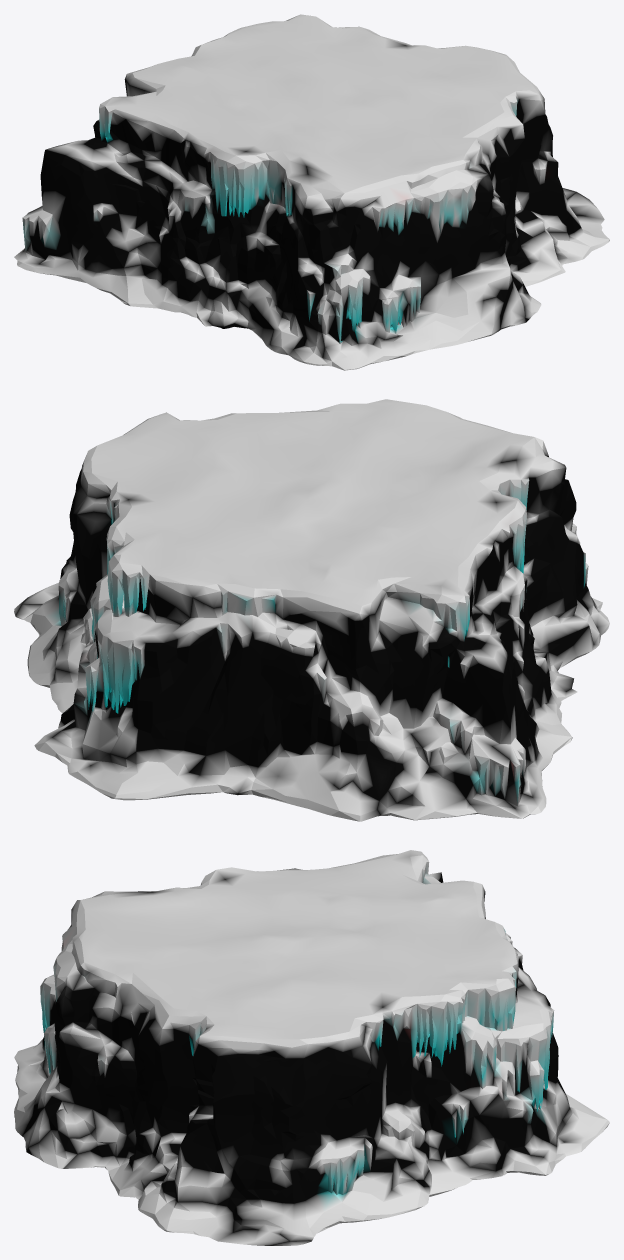
The model's file is CliffIce2_2.fbx.
3 renders of one model, top to bottom at view 1: azimuth 30°, elevation 25°; view 2: azimuth 150°, elevation 25°; view 3: azimuth 270°, elevation 25°, orthographic. The views are drawn at different scales.
Parts seen in each view (by area): view 1: CliffIce2_2_LOD0; view 2: CliffIce2_2_LOD0; view 3: CliffIce2_2_LOD0.
Boxes of the visible parts, x1,y1,x2,y2 form: CliffIce2_2_LOD0: (14, 14, 609, 370); CliffIce2_2_LOD0: (14, 399, 609, 821); CliffIce2_2_LOD0: (14, 850, 609, 1245).
Size of what is drawn, in the model's own units: 1617 by 487 by 1513.
